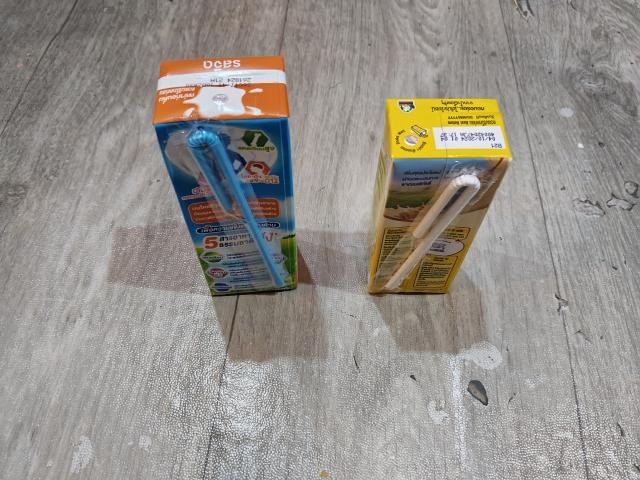drink_box: (145, 51, 308, 303), (358, 91, 523, 303)
